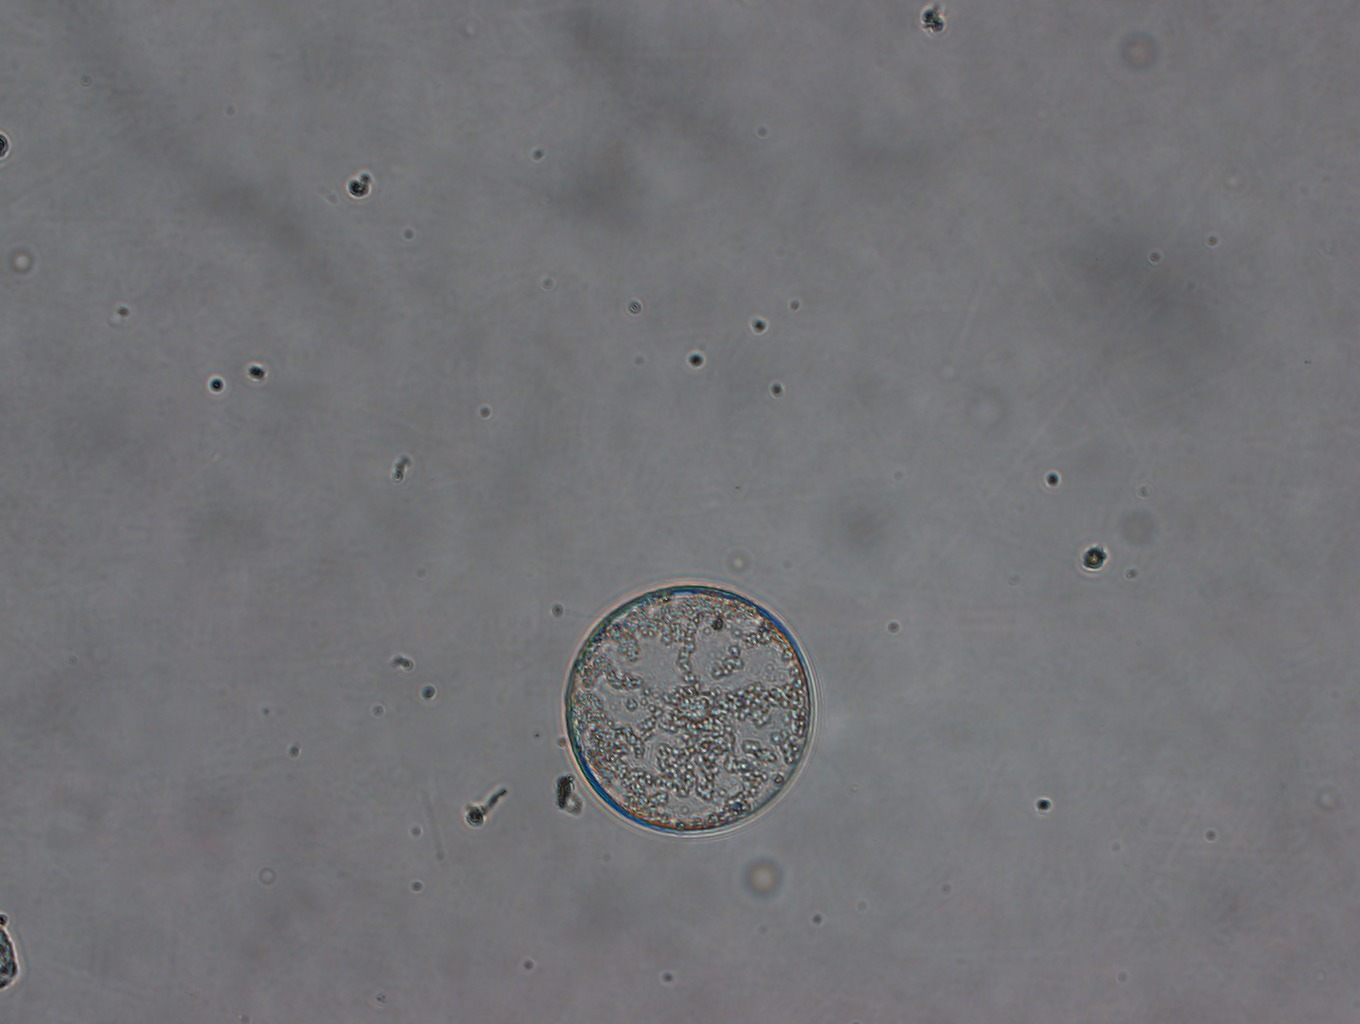coscinodiscus: (561, 580, 820, 836)
